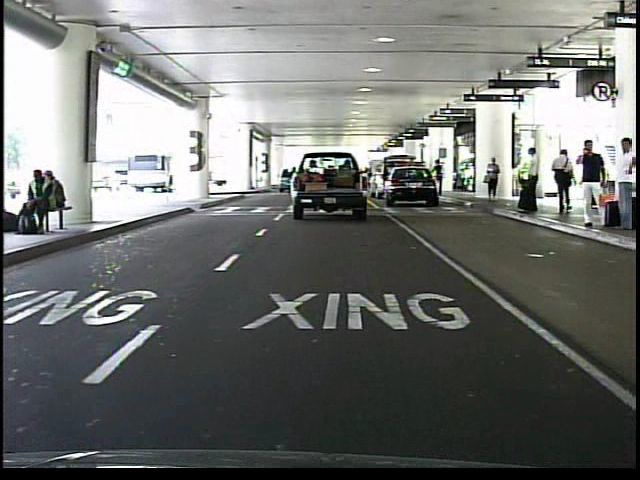person: (572, 138, 610, 234), (611, 136, 635, 236), (516, 145, 543, 218), (552, 145, 578, 217), (483, 157, 503, 205), (433, 159, 446, 200)
